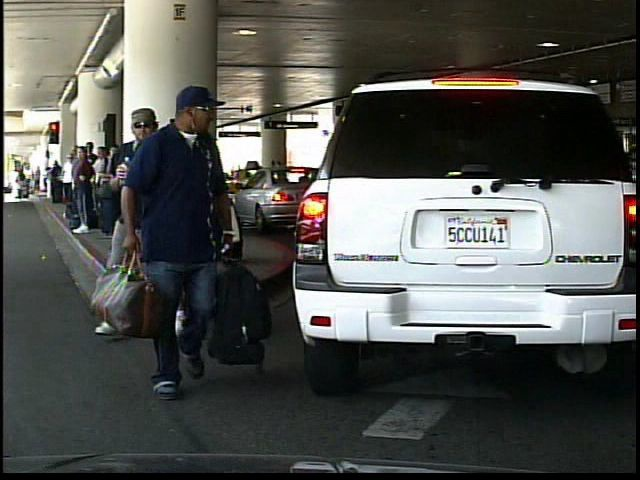person: (142, 82, 273, 406), (102, 100, 183, 332), (165, 132, 222, 264)
